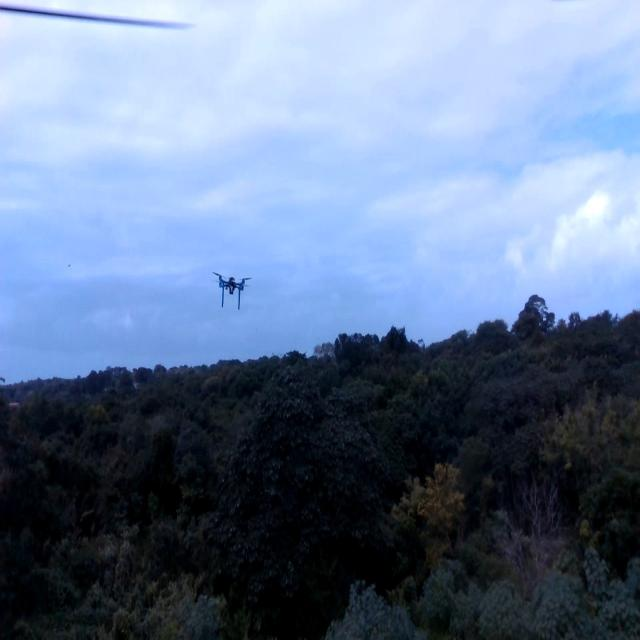-uav-: (206, 256, 259, 322)
